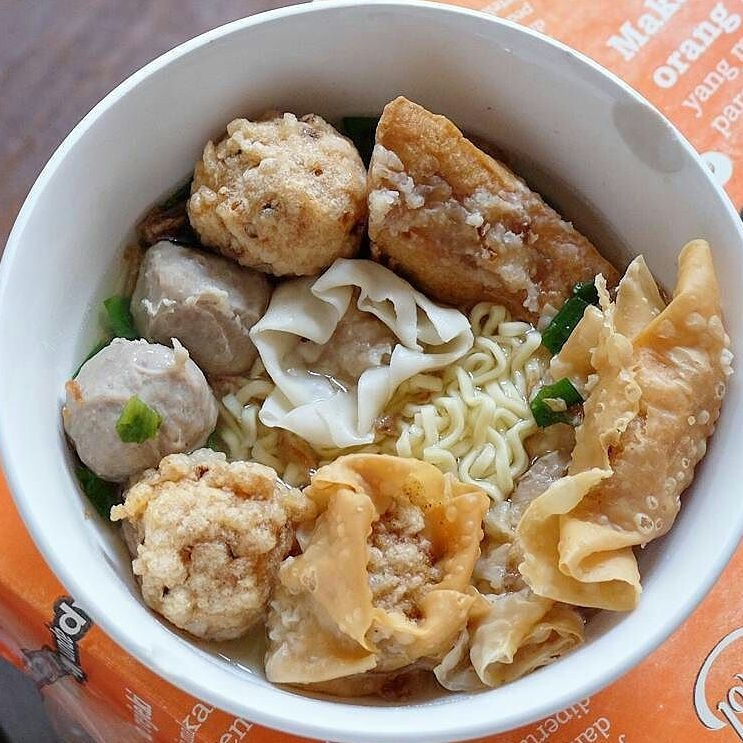bakso_malang: (62, 93, 734, 704)
